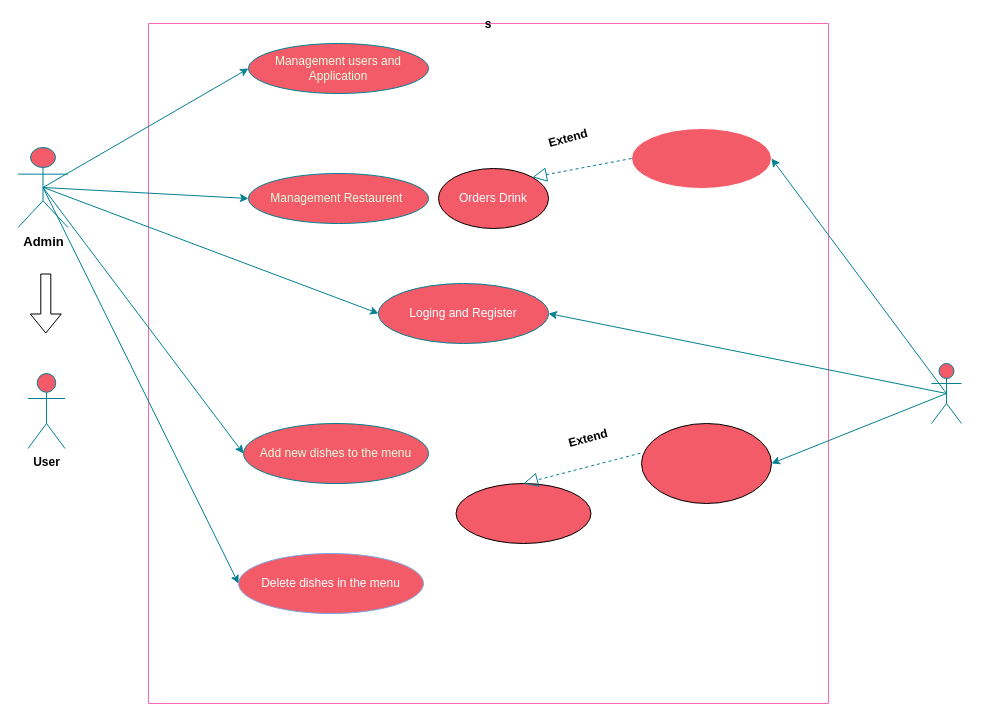
This 1006x721 diagram has some shape labels left out. Each missing label, with the box of its shape:
Check Your Bill: (455, 482, 591, 544)
Order payment: (640, 422, 772, 504)
Orders Food: (630, 128, 772, 188)
User/Customer: (930, 362, 962, 424)
